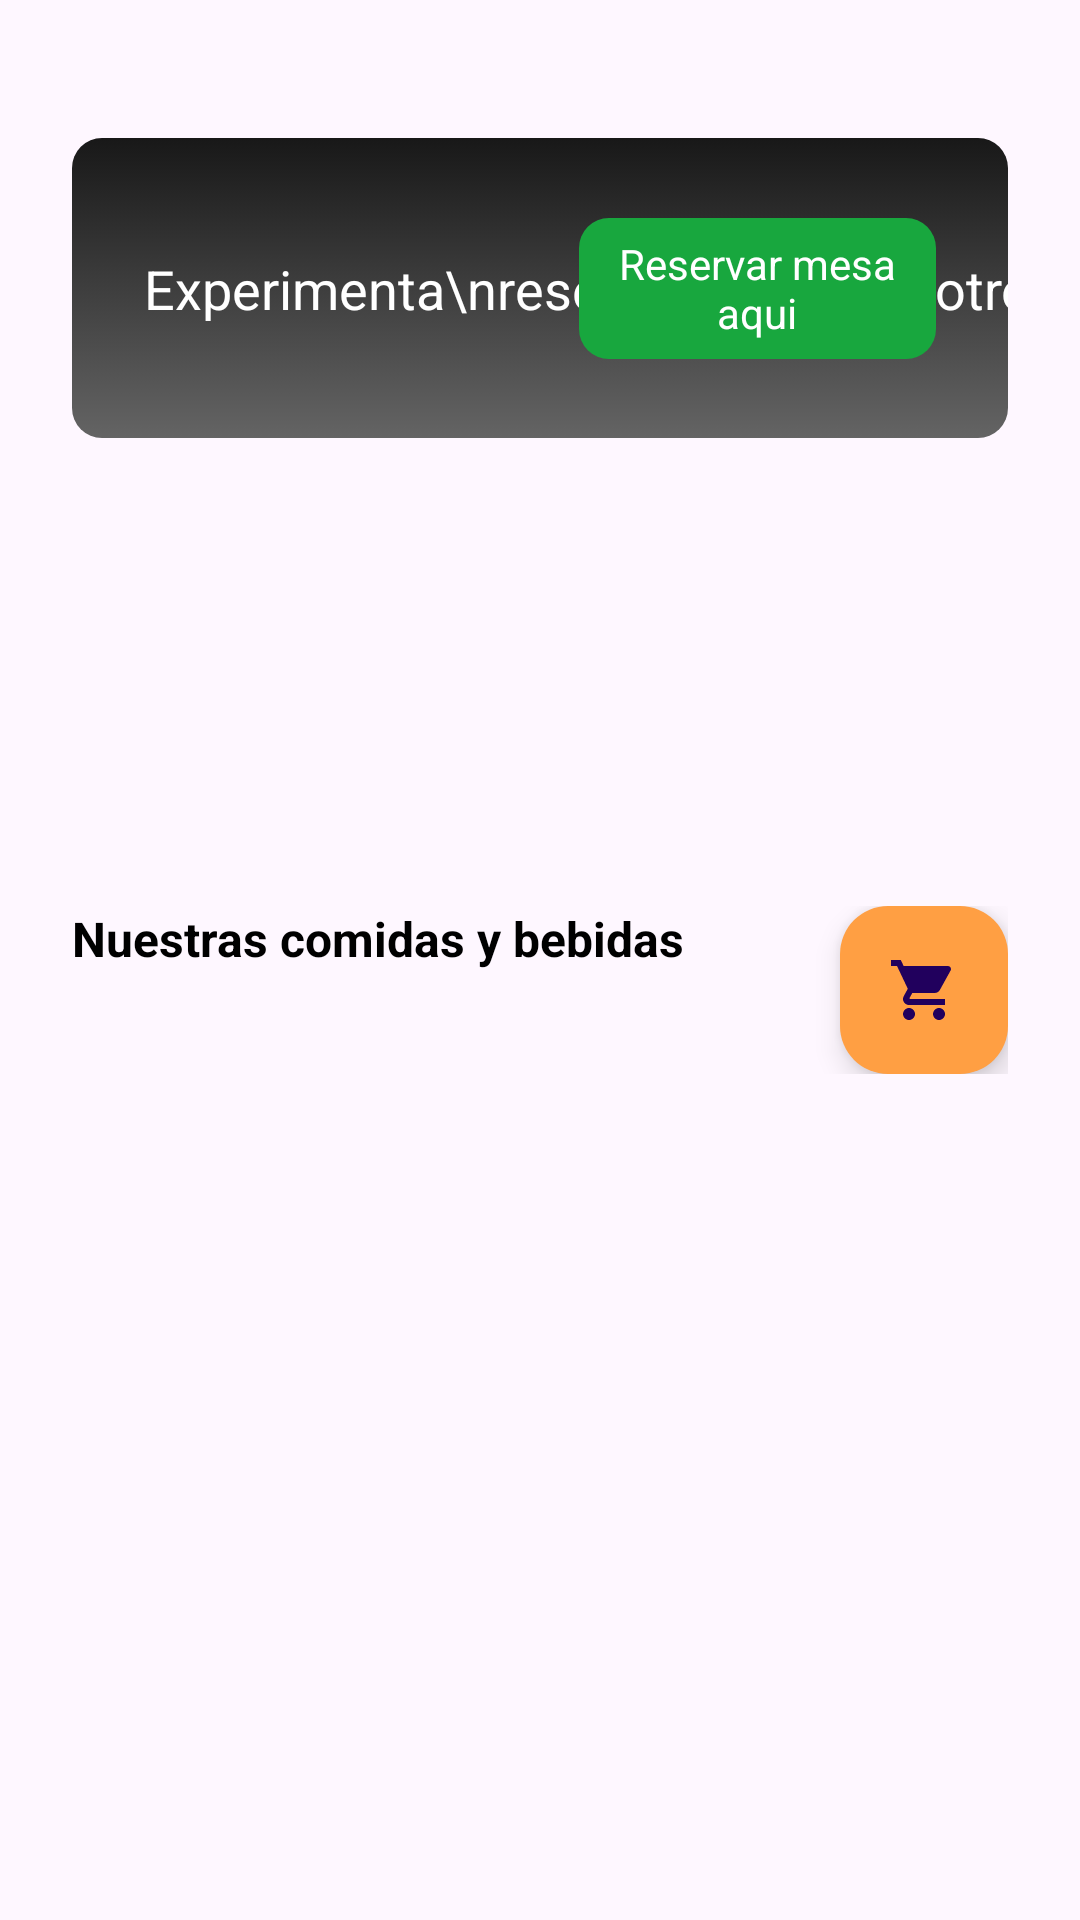

Where to tap for icons on this 1080px x 1920px app screen, as (x,y):
profile shoppingcart: (924,990)
